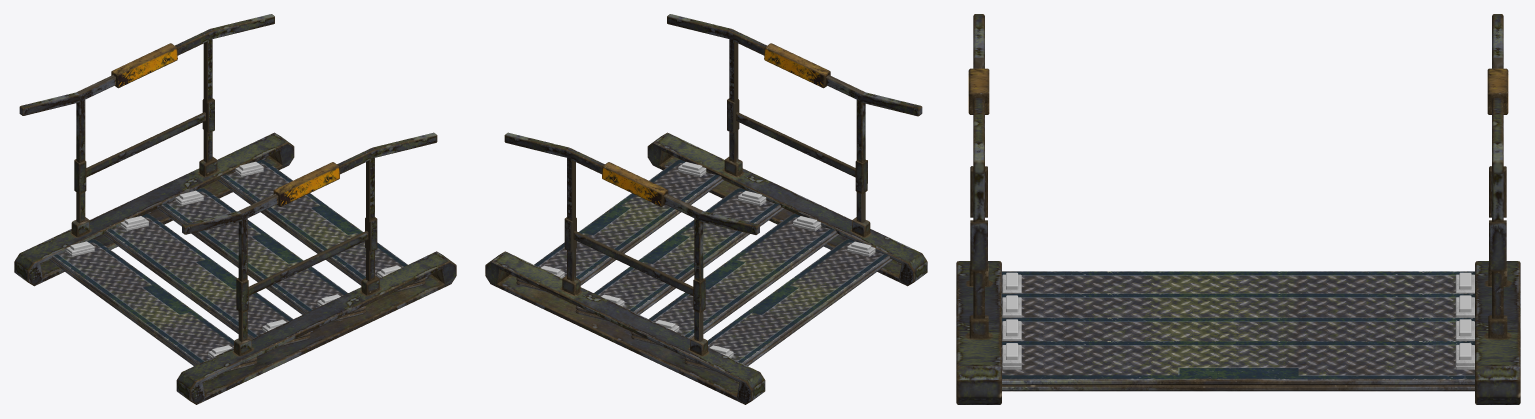
Rendered from SM_Scaffolding_pCube182.fbx.
3 views of the same model, side by side, from view 1: azimuth 30°, elevation 25°; view 2: azimuth 150°, elevation 25°; view 3: azimuth 270°, elevation 25° (orthographic). The views are drawn at different scales.
Visible parts, largest first — view 1: SM_Scaffolding_pCube182_LOD0; view 2: SM_Scaffolding_pCube182_LOD0; view 3: SM_Scaffolding_pCube182_LOD0.
Boxes of the visible parts, bbox=[...] form: SM_Scaffolding_pCube182_LOD0: bbox=[14, 14, 456, 404]; SM_Scaffolding_pCube182_LOD0: bbox=[485, 14, 927, 404]; SM_Scaffolding_pCube182_LOD0: bbox=[956, 14, 1520, 404].
Bounding box in the file's own units: 190 × 218 × 141.
Materials: 3 (2 with a texture image).
